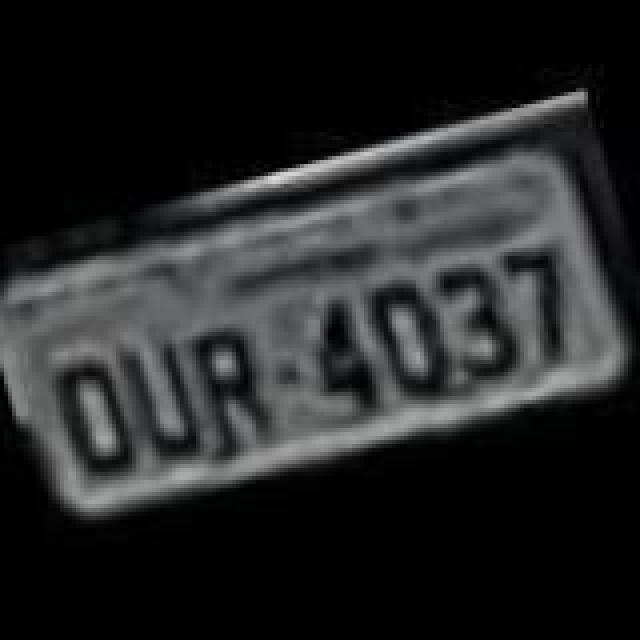3: (426, 254, 518, 386)
4: (294, 288, 394, 424)
7: (498, 234, 590, 370)
O: (48, 354, 148, 482), (358, 272, 450, 404)
R: (186, 318, 282, 450)
U: (122, 328, 218, 464)
